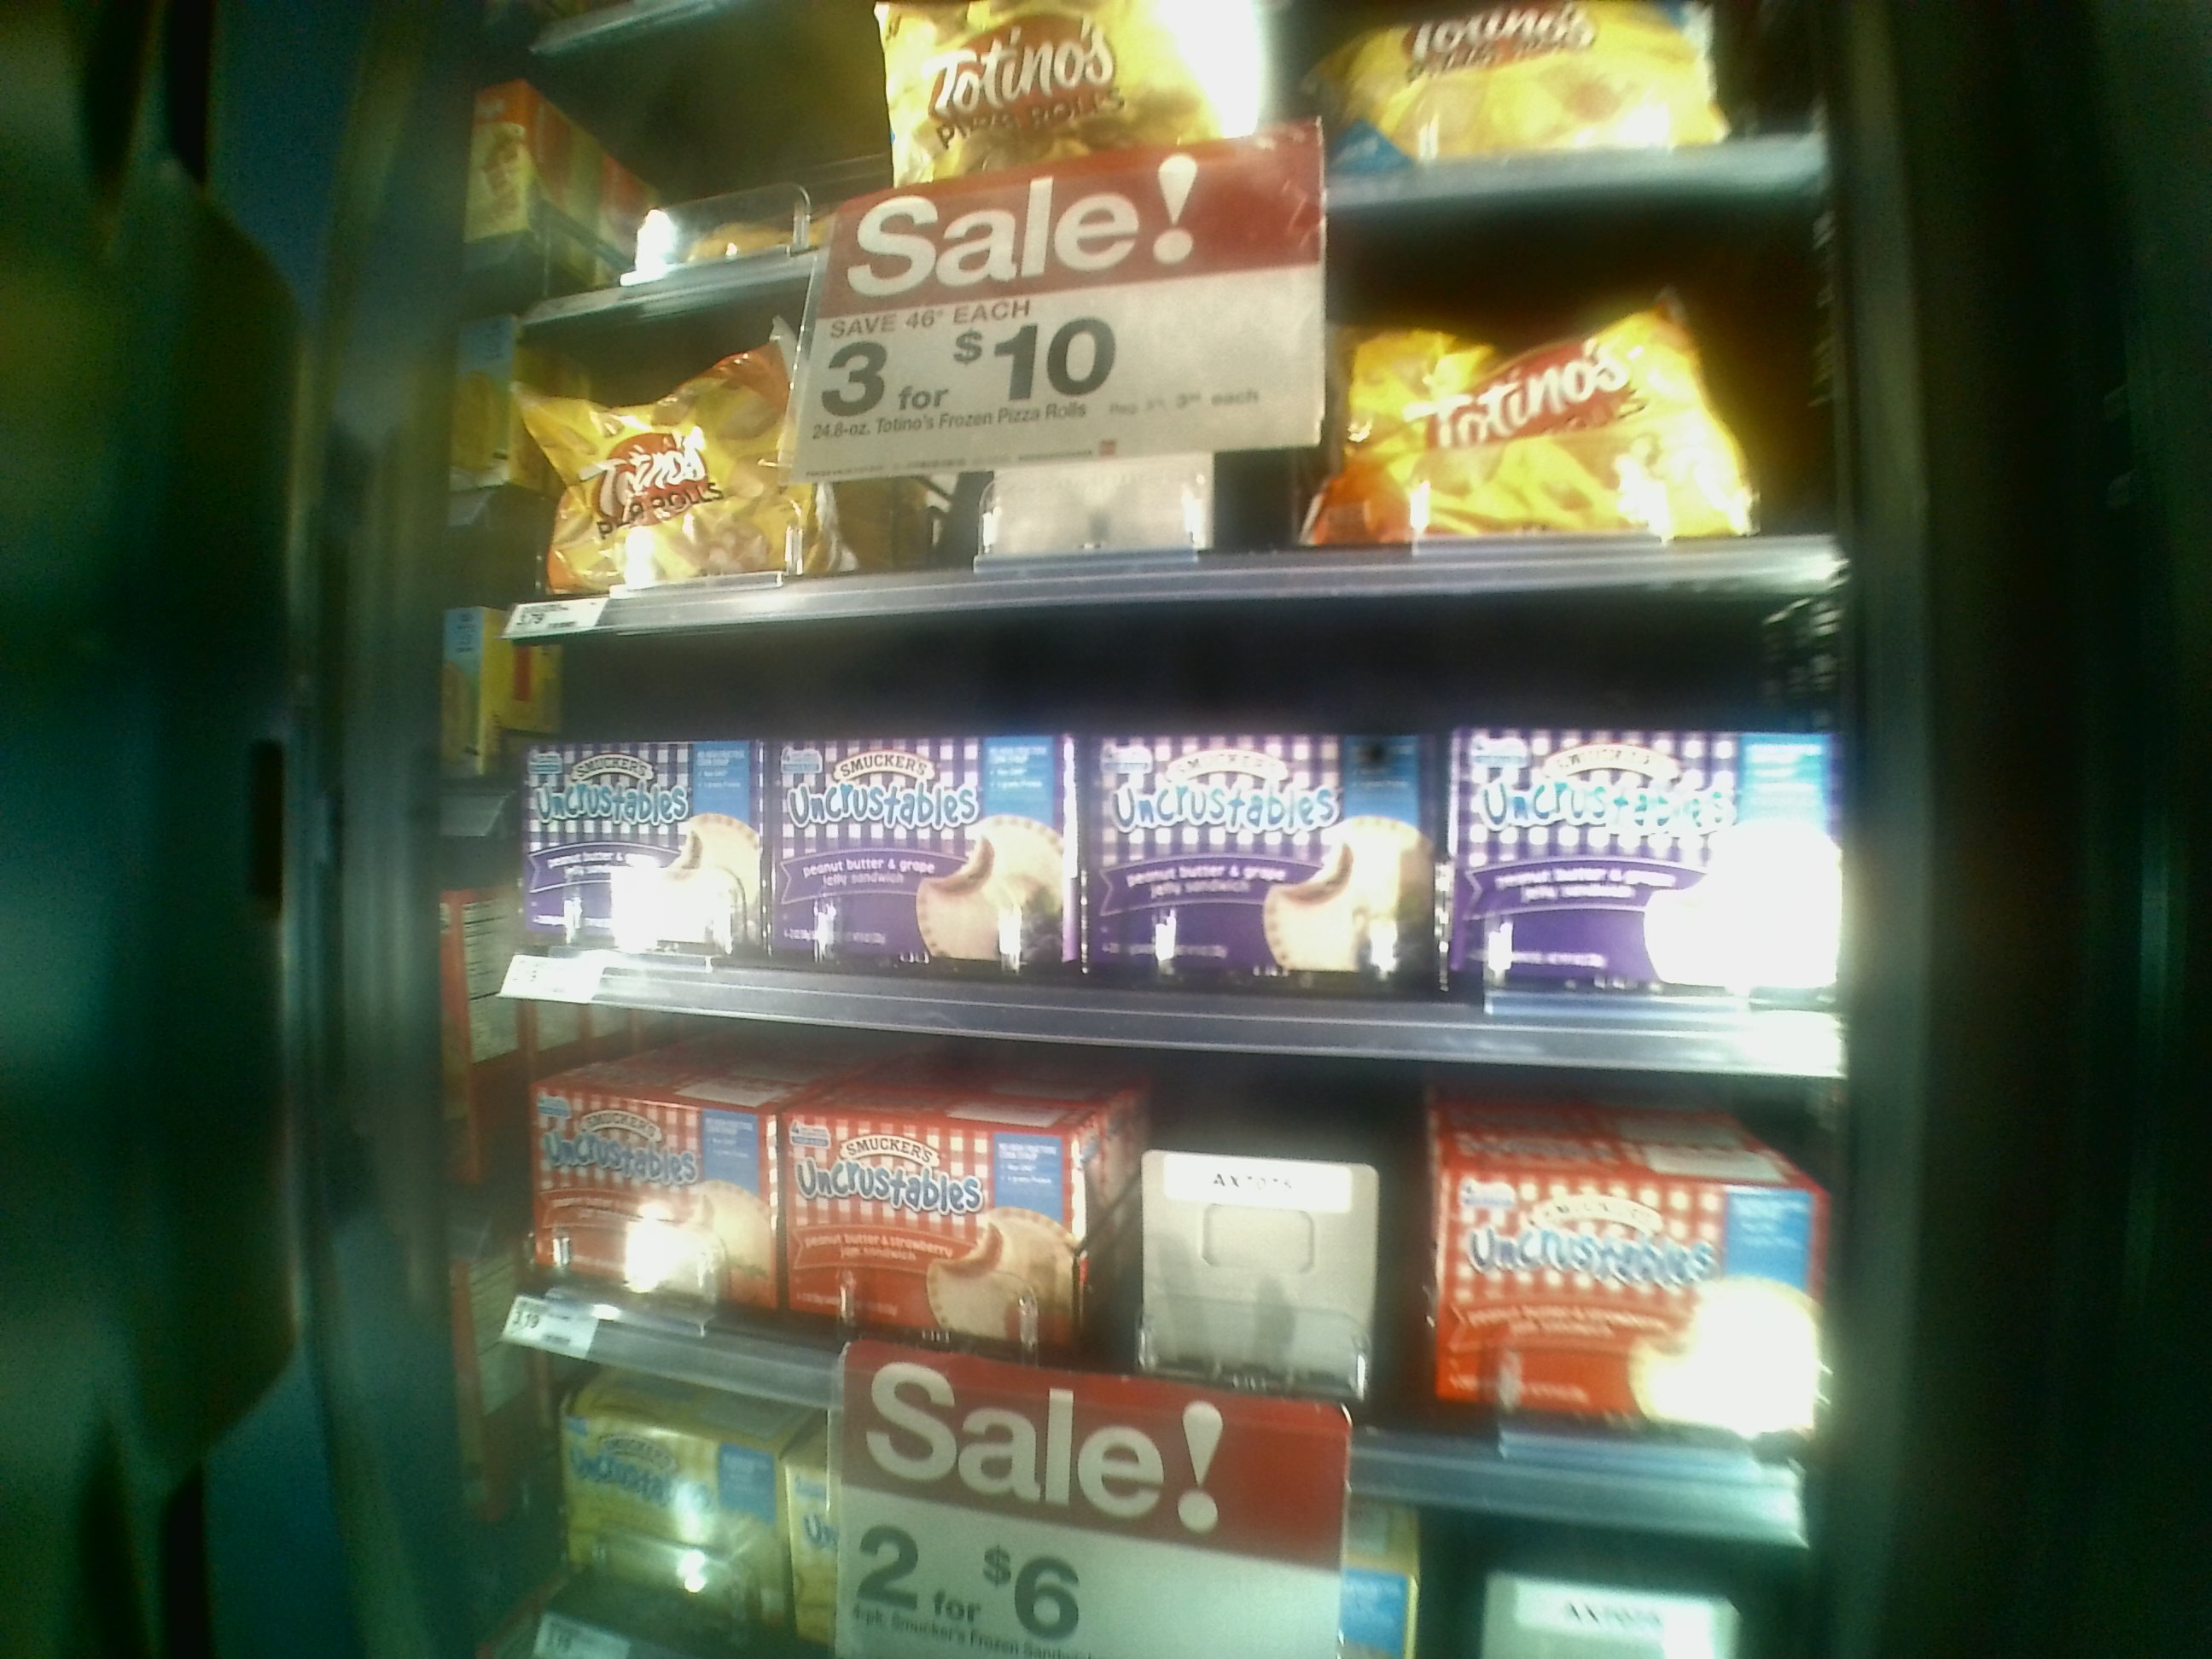shelf: (465, 962, 1838, 1540), (482, 598, 1865, 1091), (498, 282, 1834, 620)
